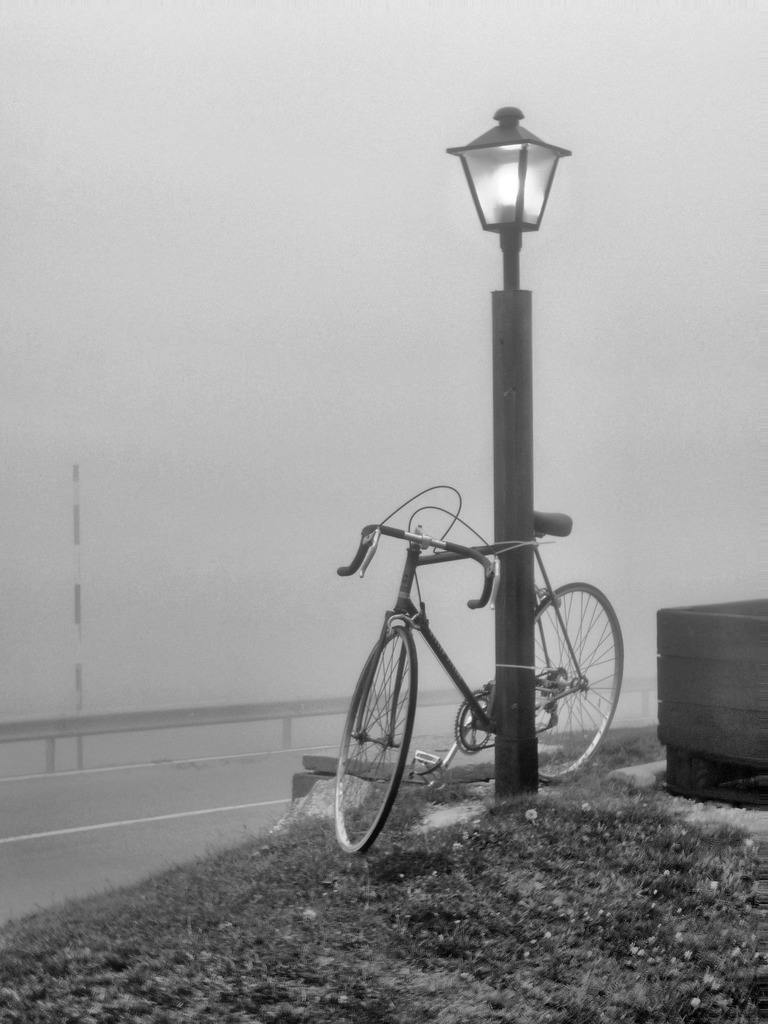Bike_toward: (334, 499, 611, 843)
